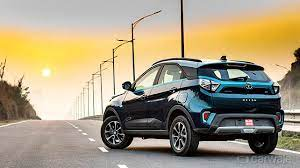Tata Nexon: (99, 54, 286, 159)
